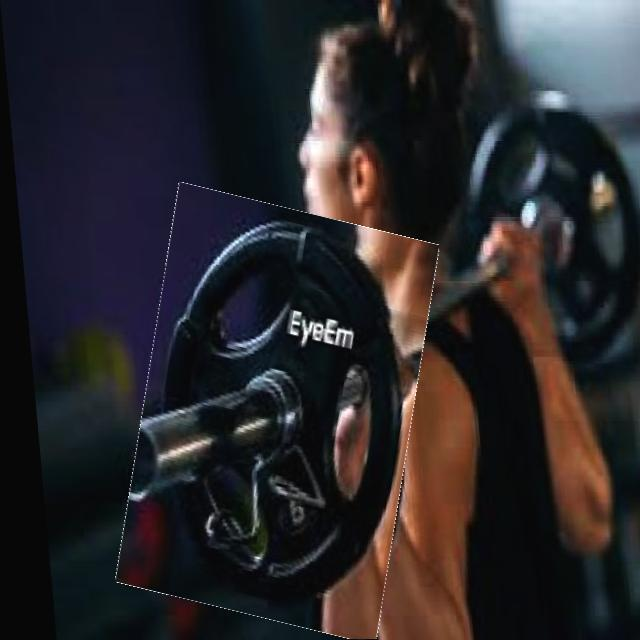barbell: (102, 196, 440, 634)
